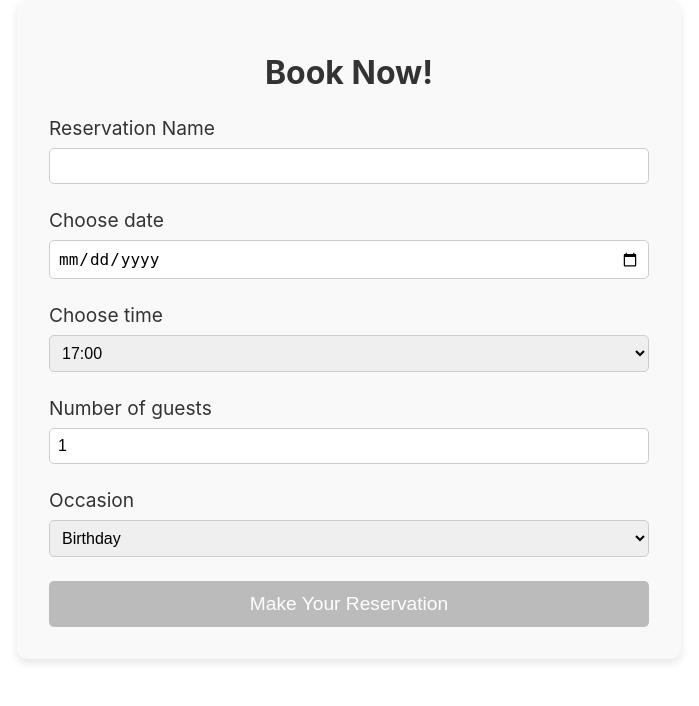
User gives 3 characters input to the name field and error message should be shown
The width and height of the screenshot is (699, 706).
In the field with test id "reservation-name-input": [349, 166] box [49,148,649,184], type "Ali"
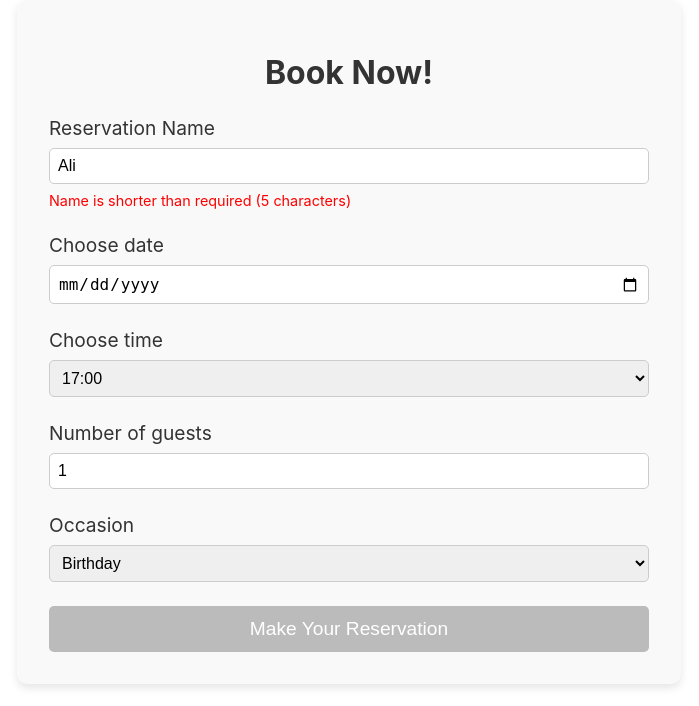
Check: the text "Name is shorter than required (5 characters)" is shown, box [49,192,351,209]
